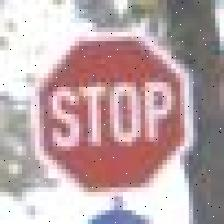Stop: (35, 34, 189, 194)
